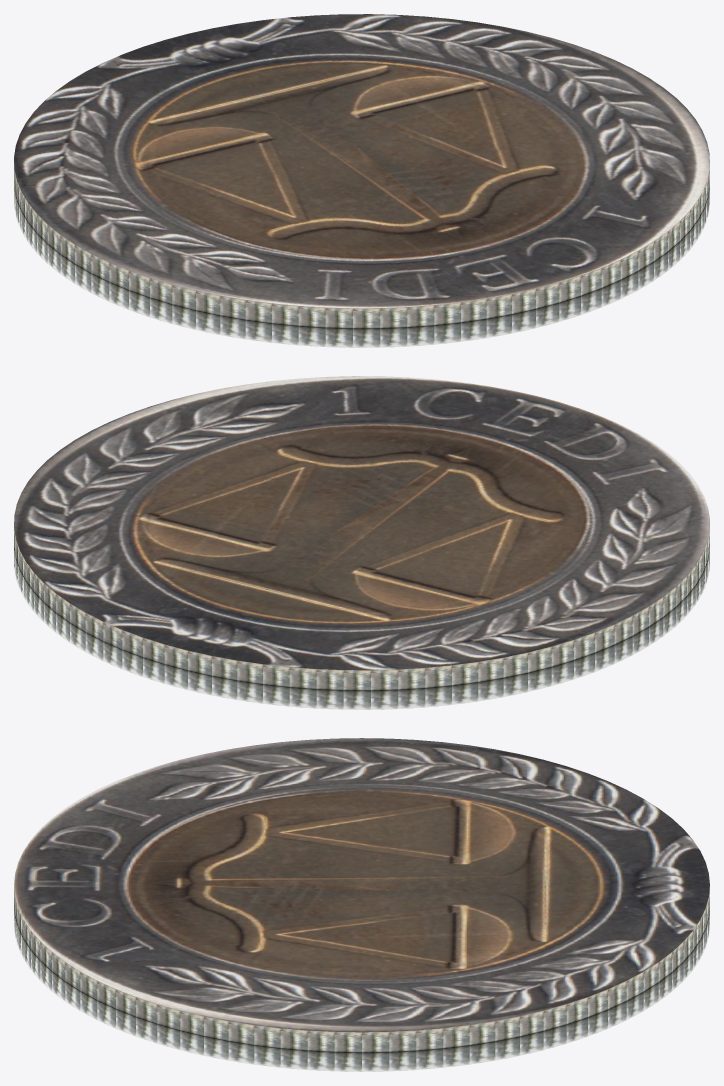
The model's file is 2007 1 cedi.fbx.
3 views of the same model, one above another, from view 1: azimuth 30°, elevation 25°; view 2: azimuth 150°, elevation 25°; view 3: azimuth 270°, elevation 25° (orthographic).
Visible parts, largest first — view 1: Cylinder; view 2: Cylinder; view 3: Cylinder.
Boxes of the visible parts, left/top/right/bottom form: Cylinder: left=14, top=14, right=709, bottom=347; Cylinder: left=14, top=376, right=709, bottom=709; Cylinder: left=14, top=738, right=709, bottom=1071.
Bounding box in the file's own units: 200 × 12.56 × 200.
Materials: 1 (1 with a texture image).
